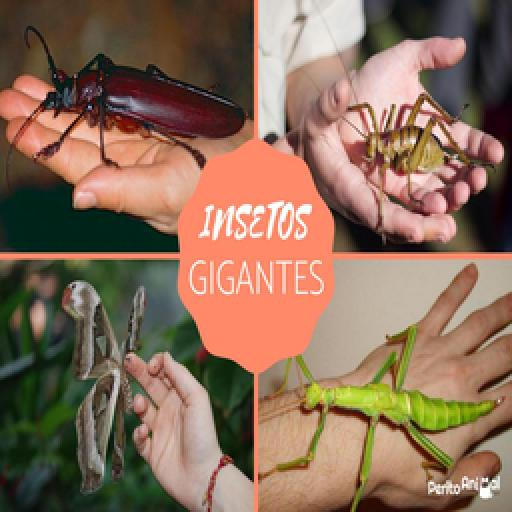insects: (260, 316, 504, 480), (18, 24, 248, 170), (58, 276, 146, 498), (344, 86, 490, 192)
